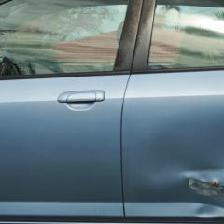door_dent: (123, 121, 224, 209)
